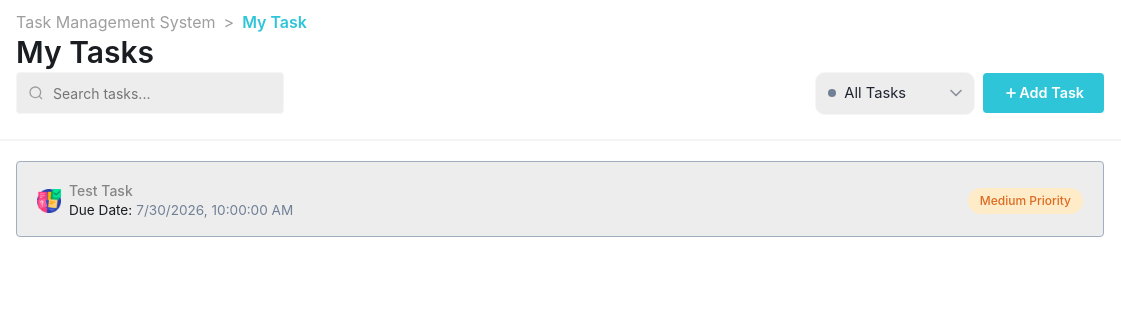
Test case: HomeView › opens filter dropdown
What coordinates should you click on to do the following:
click the button with class "select__trigger"
I would click on:
 (895, 93)
Its box is left=815, top=72, right=975, bottom=115.
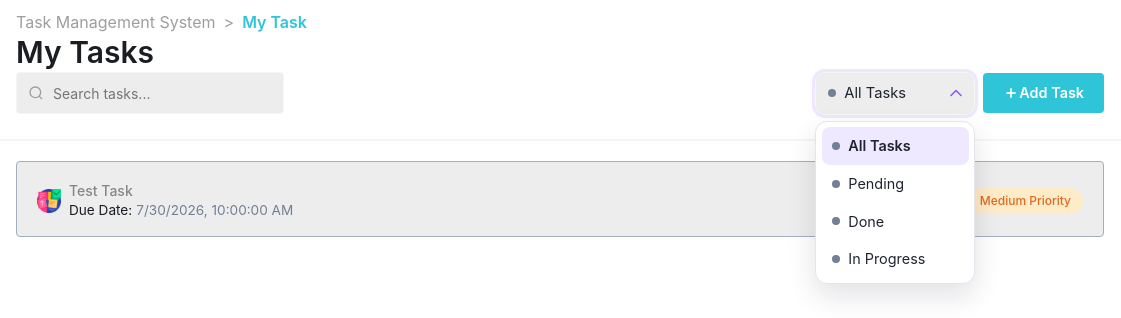
expect the list with class "select__menu" is shown: met, box left=815, top=121, right=975, bottom=284
